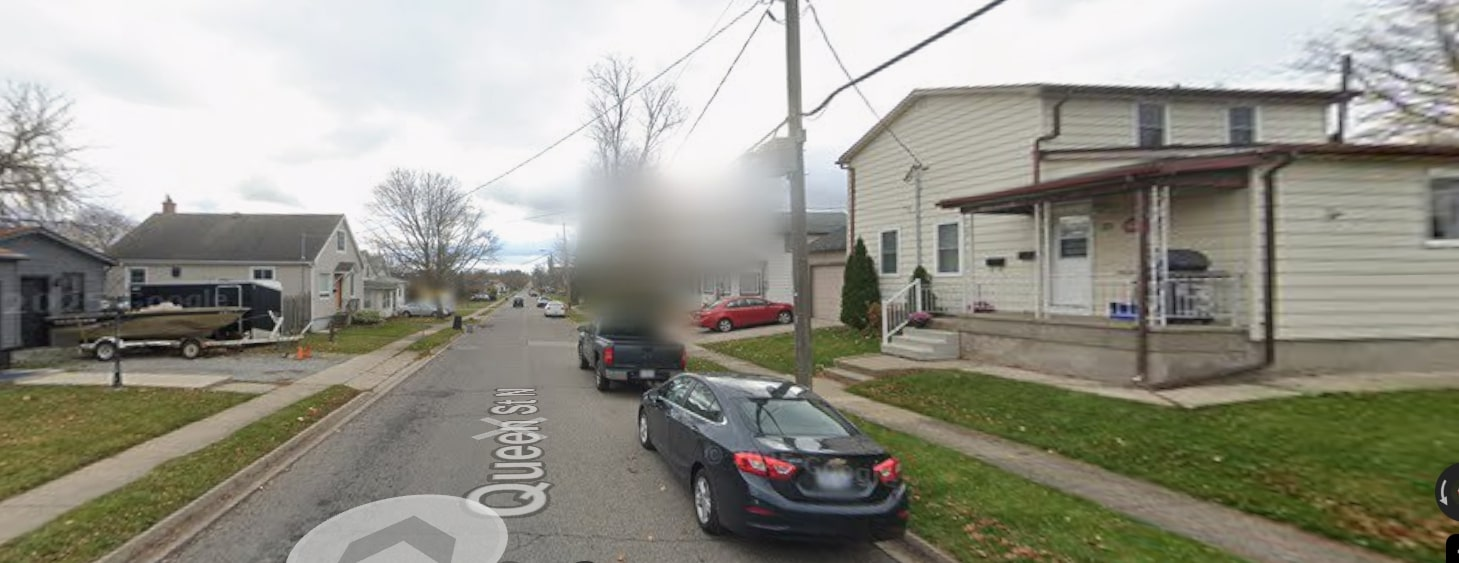cracks: (344, 385, 467, 486), (251, 490, 360, 561), (495, 523, 717, 556)
